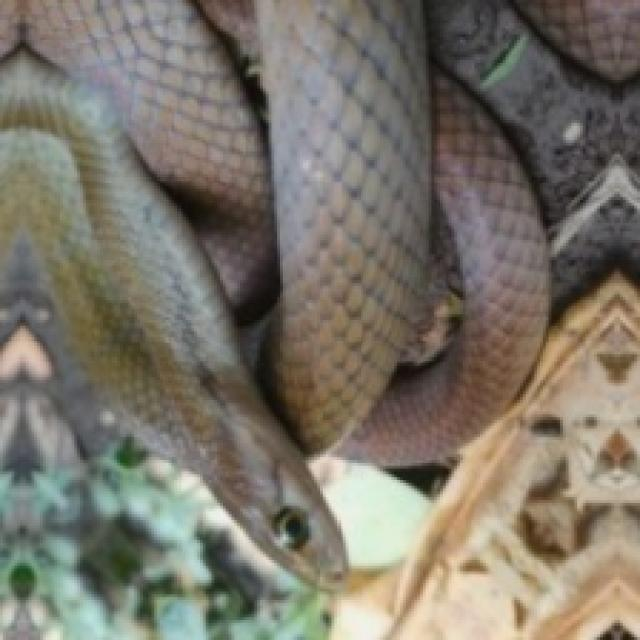reddish rat snake: (0, 0, 546, 583), (0, 0, 343, 586), (254, 0, 546, 463)
